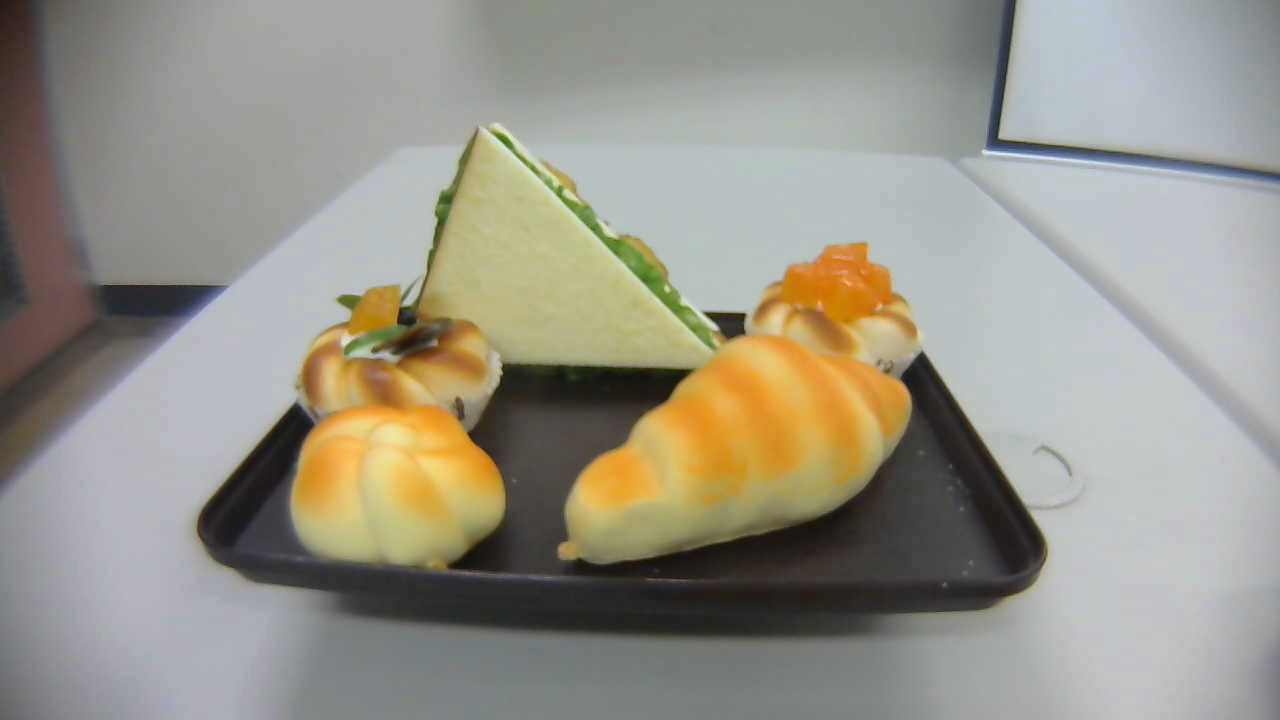croissant: (561, 335, 912, 563)
fruit tart: (291, 276, 503, 437)
mango tart: (743, 242, 927, 390)
sandwich: (409, 122, 737, 377)
twist bread: (290, 407, 506, 571)
